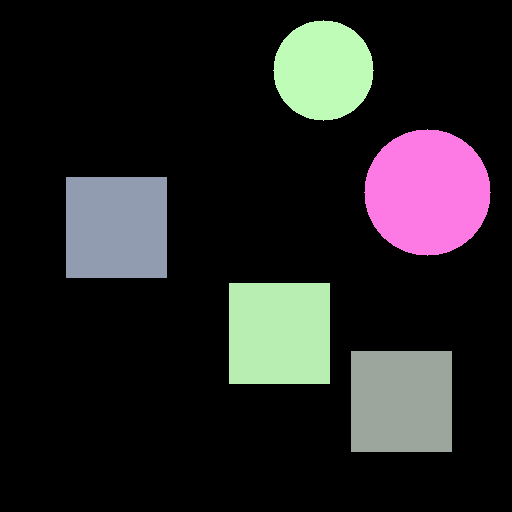circle: (364, 129, 490, 255), (273, 20, 373, 120)
square: (351, 351, 451, 451), (229, 283, 329, 383), (66, 177, 166, 277)
